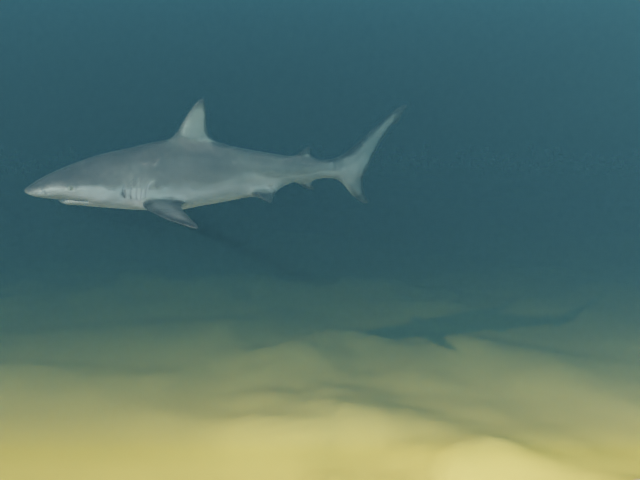Carribean Shark.001: (24, 98, 407, 228)
